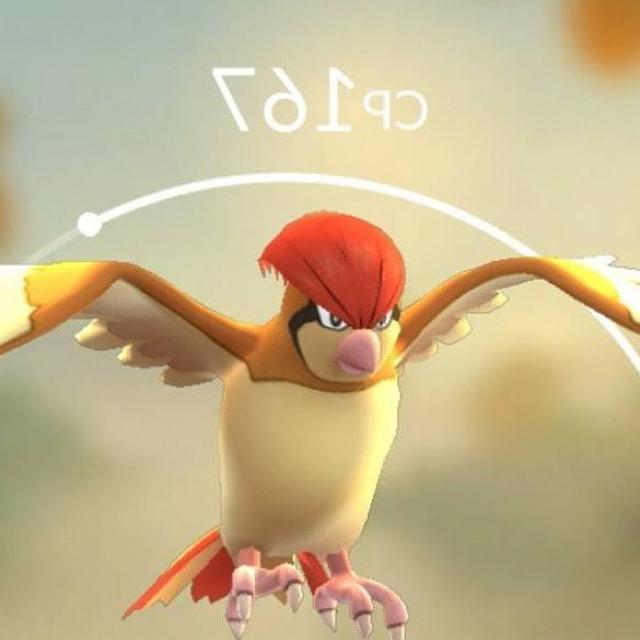Pidgeot: (125, 206, 424, 626)
